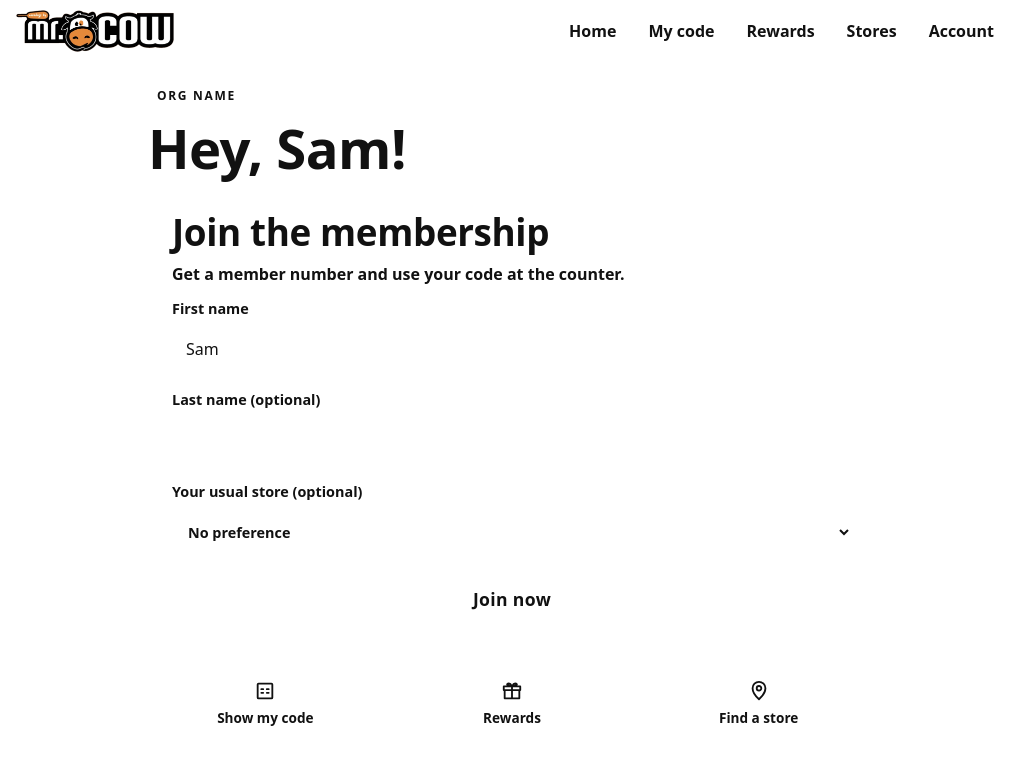
Scenario: joining › enrolls a signed-in non-member through TOGIVA and then shows their card
This screenshot has width=1024, height=768.
Expected: the heading "Join the membership" is shown, [172,207,549,257]
Expected: the field labelled "First name" holds "Sam", [172,325,852,373]
Select "Pearl City" in the dropdown labelled "Your usual store (optional)" at (512, 532), box [172,508,852,556]
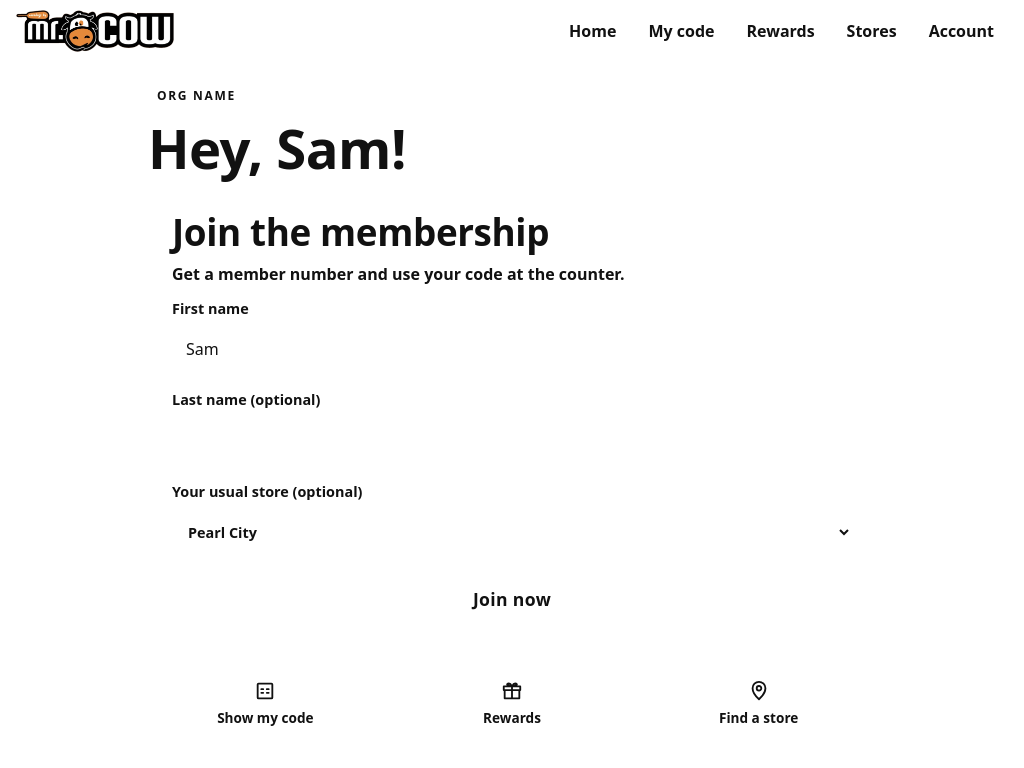
Click the button "Join now" at (512, 599), box [172,572,852,626]
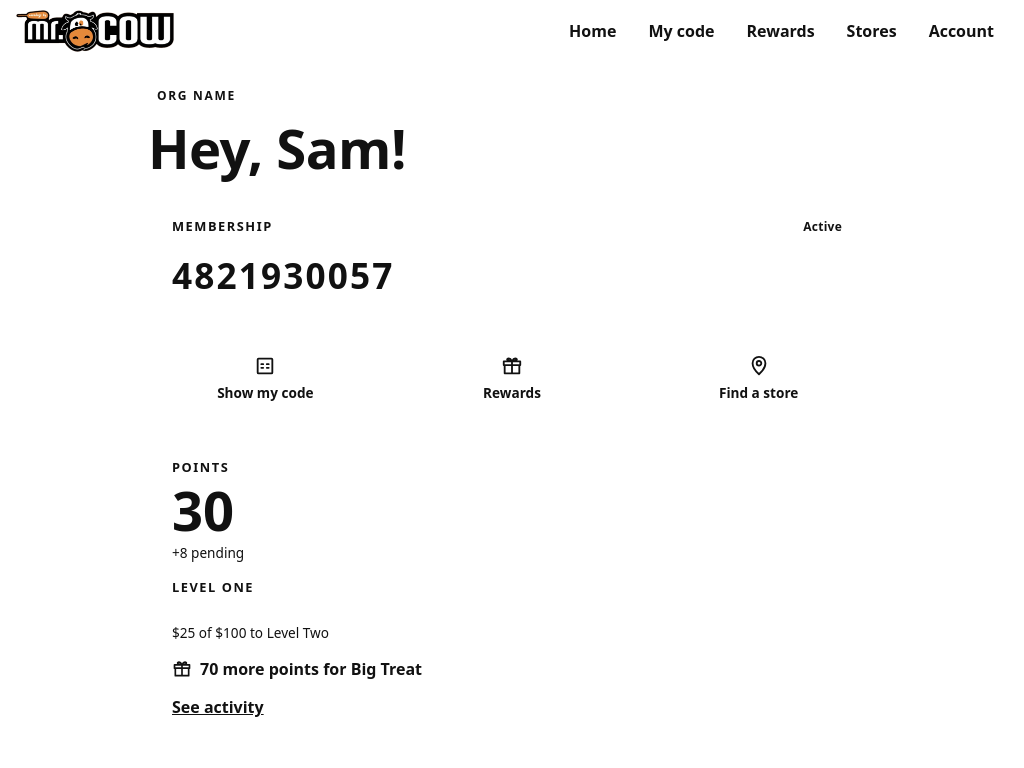
Now the text "4821930057" is shown, box [172,251,496,299]
